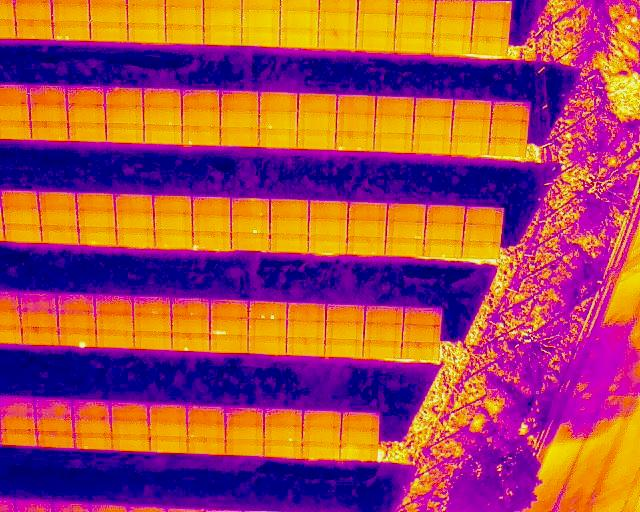Cell: (474, 0, 511, 19), (231, 216, 270, 234), (183, 128, 221, 146), (143, 107, 181, 125), (422, 240, 461, 257), (172, 334, 210, 351), (259, 112, 297, 129), (60, 330, 96, 347), (192, 233, 230, 249), (264, 426, 302, 441)
Cell-Multi: (335, 132, 374, 151), (248, 302, 287, 320), (53, 21, 90, 39), (387, 223, 425, 239)
No-Anomaly: (90, 0, 127, 22), (357, 31, 395, 51), (182, 90, 220, 110), (144, 125, 182, 145), (149, 403, 188, 422), (298, 93, 337, 112), (14, 0, 53, 19), (298, 112, 337, 131), (127, 4, 166, 23), (434, 17, 473, 36), (492, 102, 529, 122), (90, 22, 127, 42), (259, 129, 297, 148), (318, 29, 356, 48), (242, 27, 280, 46), (226, 406, 264, 425), (221, 91, 259, 110), (337, 95, 375, 114), (204, 7, 242, 26), (309, 218, 347, 237), (172, 298, 210, 317), (491, 120, 527, 140), (413, 99, 453, 117), (59, 294, 95, 314), (376, 97, 413, 116), (166, 24, 203, 43), (52, 0, 89, 19), (73, 400, 110, 419), (36, 398, 73, 417), (29, 86, 66, 105), (280, 10, 317, 29), (20, 292, 57, 311), (67, 105, 106, 123), (453, 101, 492, 119), (259, 93, 298, 111), (374, 134, 413, 152), (30, 121, 69, 139), (309, 200, 348, 218), (117, 228, 156, 246), (388, 205, 427, 223), (132, 297, 171, 315), (0, 397, 36, 416), (221, 111, 259, 129), (133, 315, 171, 333), (249, 320, 287, 338), (364, 323, 402, 341), (287, 321, 325, 339), (395, 33, 433, 51), (433, 36, 471, 54), (166, 5, 204, 23), (413, 118, 451, 136), (348, 202, 386, 220), (271, 200, 309, 218), (210, 300, 248, 318), (242, 10, 280, 28), (66, 87, 104, 105), (105, 88, 143, 106), (143, 88, 181, 106), (231, 233, 269, 251), (95, 295, 133, 313), (230, 199, 270, 216), (188, 406, 225, 424), (211, 335, 248, 353), (326, 321, 363, 339), (453, 119, 490, 137), (111, 402, 148, 420), (106, 106, 143, 124), (106, 124, 143, 142), (298, 131, 335, 149), (280, 30, 317, 48), (375, 116, 412, 134), (1, 190, 38, 208), (465, 207, 502, 225), (15, 20, 52, 38), (155, 230, 192, 248), (203, 27, 242, 44), (413, 136, 452, 153), (287, 338, 326, 355), (425, 224, 464, 241), (127, 24, 166, 41), (3, 225, 42, 242), (348, 220, 387, 237), (270, 218, 309, 235), (472, 37, 508, 55), (473, 19, 509, 37), (489, 139, 525, 157), (69, 124, 107, 141), (171, 317, 209, 334), (134, 332, 172, 349), (325, 340, 363, 357), (22, 328, 60, 345), (96, 314, 134, 331), (337, 114, 375, 131), (264, 441, 302, 458), (221, 129, 259, 146), (155, 213, 193, 230), (39, 192, 77, 209), (385, 239, 423, 256), (427, 206, 465, 223), (395, 16, 433, 33), (77, 193, 115, 210), (289, 303, 327, 320), (150, 437, 187, 454), (96, 330, 133, 347), (357, 13, 394, 30), (80, 227, 117, 244), (366, 305, 403, 322), (193, 198, 230, 215), (264, 409, 303, 425), (248, 338, 287, 354), (435, 0, 474, 16), (1, 209, 40, 225), (327, 305, 366, 321), (318, 13, 357, 29), (402, 342, 438, 359), (462, 240, 498, 257), (363, 342, 401, 358), (37, 432, 75, 448), (182, 111, 220, 127), (303, 443, 341, 459), (154, 197, 192, 213), (78, 211, 116, 227), (116, 195, 154, 211), (463, 224, 501, 240), (40, 209, 78, 225), (116, 211, 154, 227), (308, 238, 346, 254), (341, 413, 378, 429), (304, 411, 341, 427), (402, 325, 439, 341), (451, 138, 488, 154), (30, 105, 67, 121), (0, 430, 37, 446), (188, 438, 225, 454), (193, 215, 230, 231), (347, 237, 384, 253), (42, 226, 79, 242), (270, 235, 307, 251), (342, 430, 378, 446), (404, 308, 440, 324), (225, 440, 263, 455), (21, 313, 59, 328), (303, 427, 341, 442), (0, 121, 30, 140), (226, 425, 264, 440), (76, 434, 111, 450), (112, 436, 149, 451), (58, 315, 95, 330), (111, 420, 148, 435), (341, 445, 377, 460), (73, 419, 111, 433), (187, 424, 225, 438), (148, 423, 186, 437), (0, 416, 37, 430), (0, 87, 29, 104), (37, 417, 72, 431), (0, 104, 30, 120), (0, 292, 20, 310), (0, 328, 22, 344), (0, 311, 22, 327)
Unclassified: (210, 318, 248, 335)
